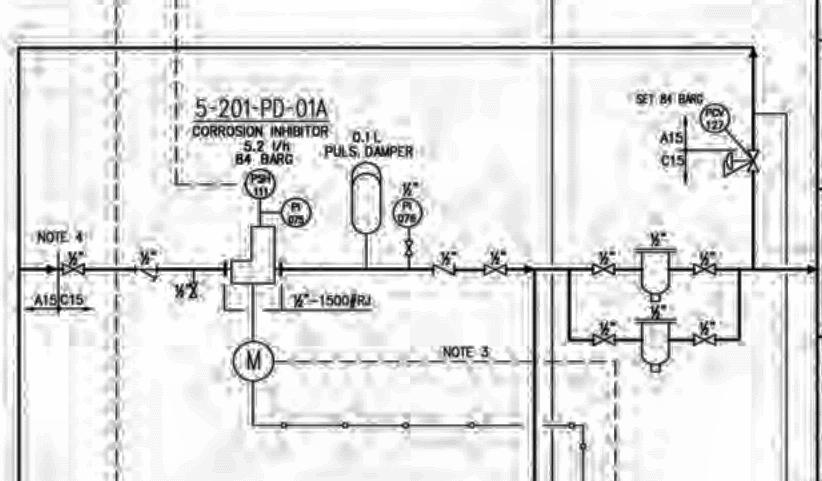DIAPHRAGM ACTUATED VALVE: (717, 144, 766, 180)
DRUM AND PRESSURE VESSEL: (348, 159, 385, 238)
FIELD INSTRUMENT: (227, 340, 276, 385), (276, 193, 315, 231), (695, 103, 734, 136), (240, 168, 277, 202), (389, 198, 425, 227)
GATE VALVE: (589, 330, 620, 353), (588, 258, 618, 281), (55, 259, 89, 278), (689, 330, 721, 350), (482, 259, 512, 280), (690, 259, 719, 278), (185, 278, 203, 305), (400, 235, 417, 262)
